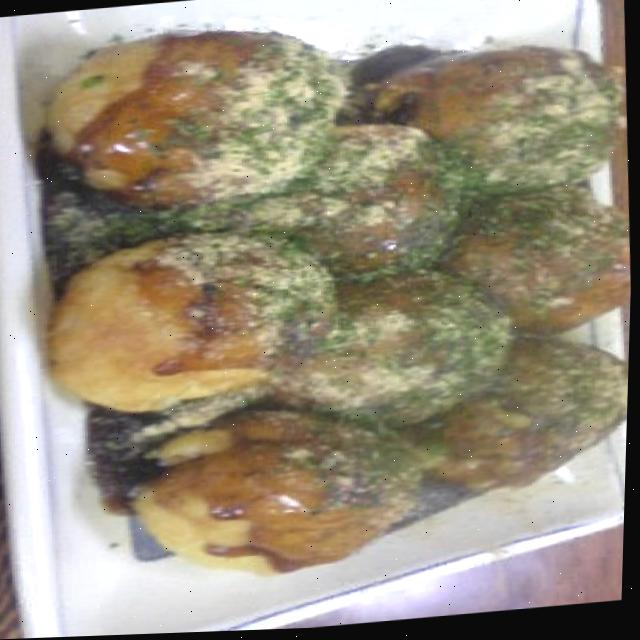炸货点心: (11, 0, 640, 602)
